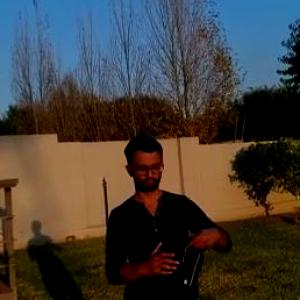follow: (102, 129, 240, 299)
